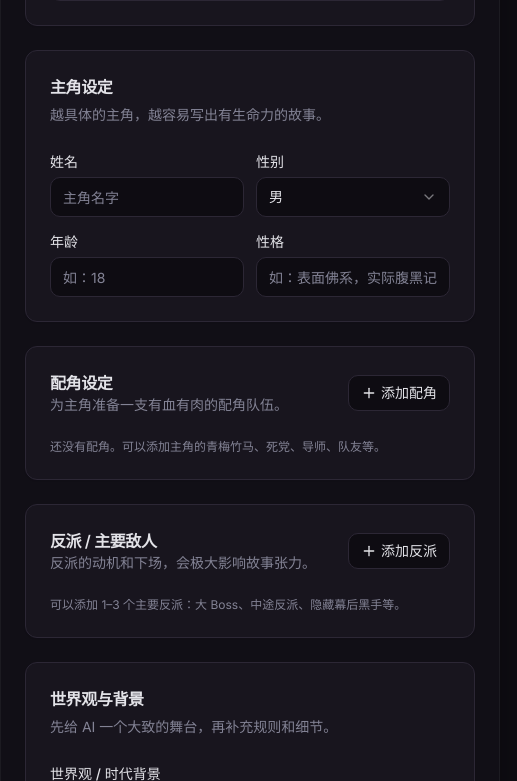
Test case: NovelSettingsForm › 应当支持配角的动态添加与删除，并保存状态
Later steps or results of the test are not shown.
(page scrolled)
Expected: the field with placeholder "如：李师兄 / 小胖" is not shown
Expected: the text "还没有配角。可以添加主角的青梅竹马、死党、导师、队友等。" is shown, [50,439,386,454]
点击“添加配角”按钮
Click the button "添加配角" at (399, 393), box [348,375,450,411]
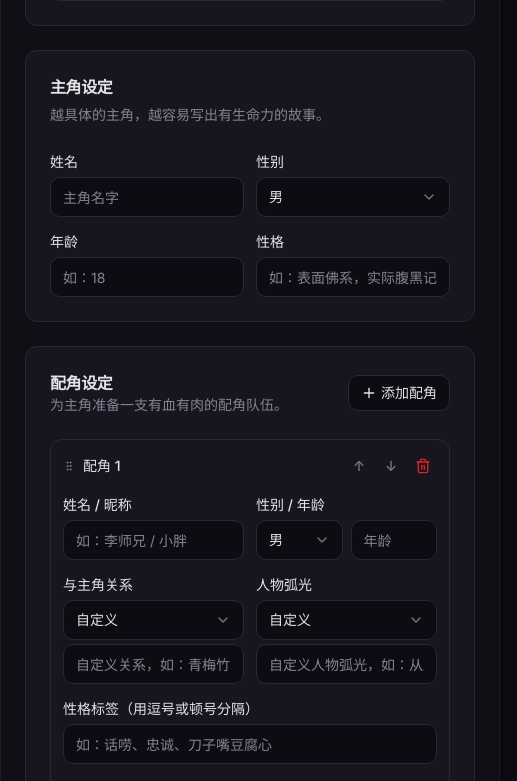
Expected: the field with placeholder "如：李师兄 / 小胖" is shown
 输入姓名并更新
Type "王小二" into the field with placeholder "如：李师兄 / 小胖" at (154, 540), box [63,520,244,560]
Wait 400 ms
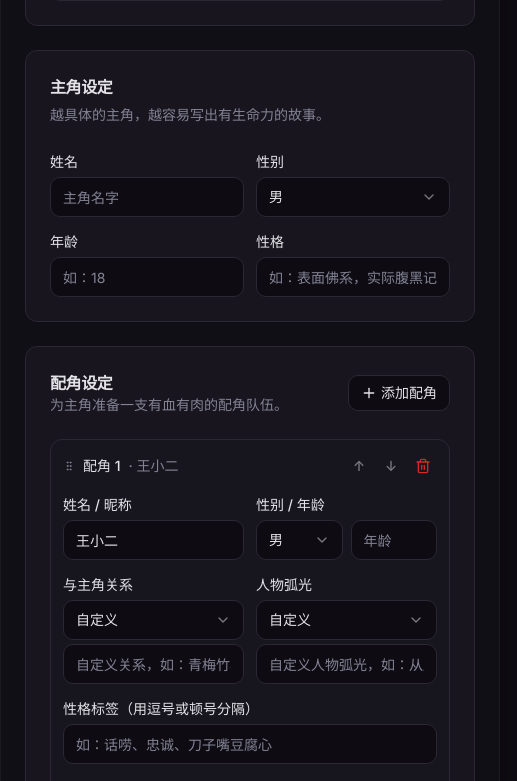
Expected: the 4th button is shown, [409,452,437,480]
